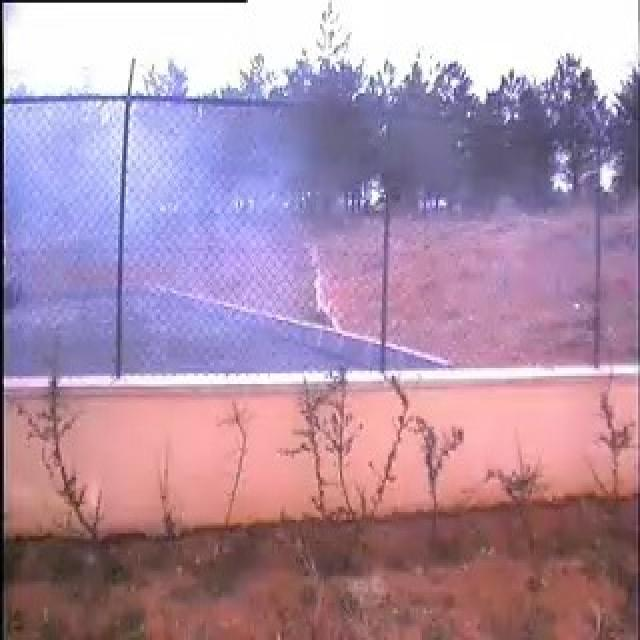smoke: (57, 97, 320, 375)
